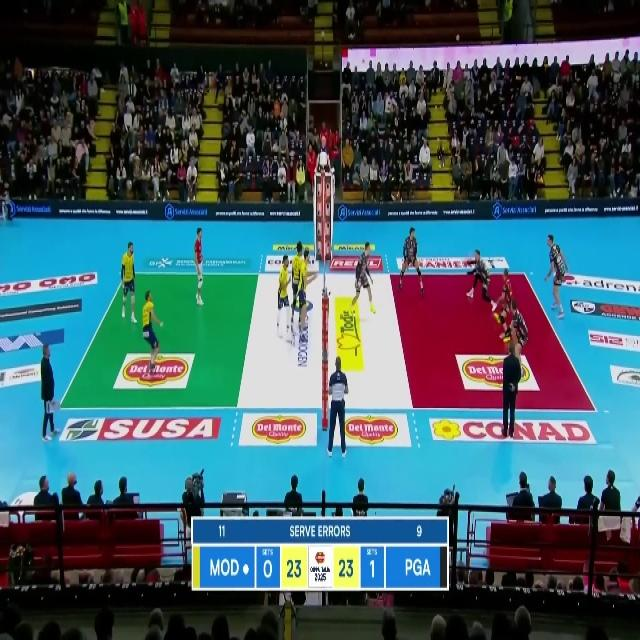volleyball court: (58, 269, 596, 411)
